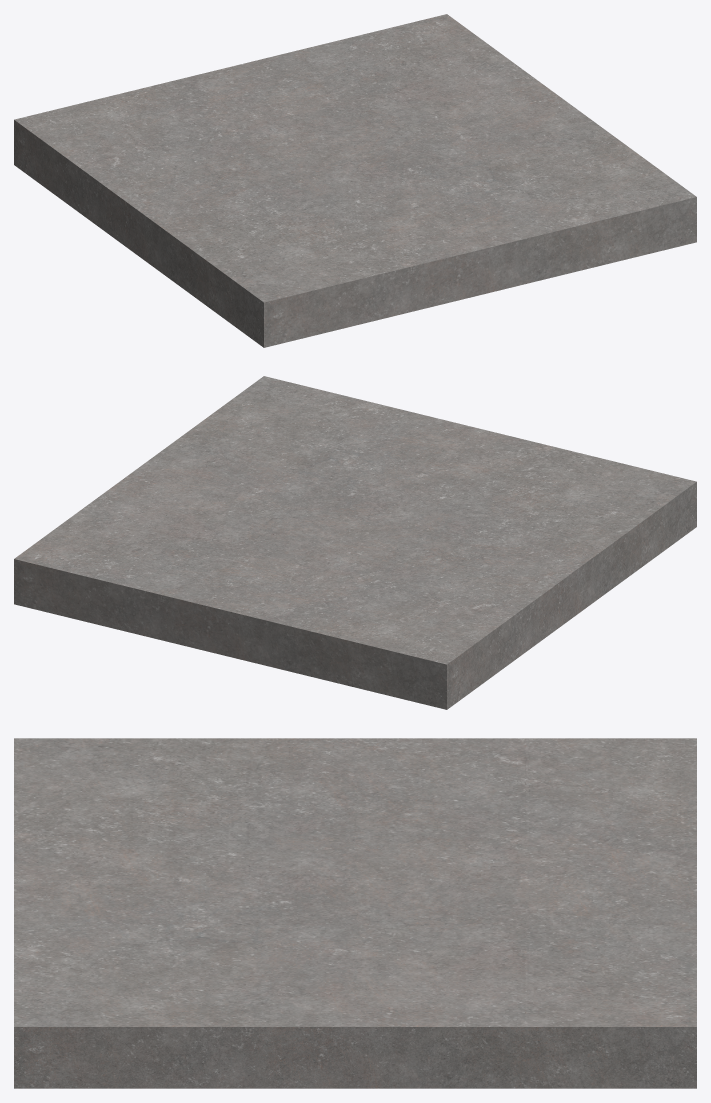
File: SM_CW_Floor.fbx
3 views of the same model, one above another, from view 1: azimuth 30°, elevation 25°; view 2: azimuth 150°, elevation 25°; view 3: azimuth 270°, elevation 25° (orthographic). The views are drawn at different scales.
Parts seen in each view (by area): view 1: SM_CW_Floor; view 2: SM_CW_Floor; view 3: SM_CW_Floor.
Part boxes in pixels (x1=…): SM_CW_Floor: x1=14, y1=14, x2=696, y2=347; SM_CW_Floor: x1=14, y1=376, x2=696, y2=709; SM_CW_Floor: x1=14, y1=738, x2=696, y2=1088.
Size of the model in its own units: 500 by 500 by 50.
1 material, 1 textured.
